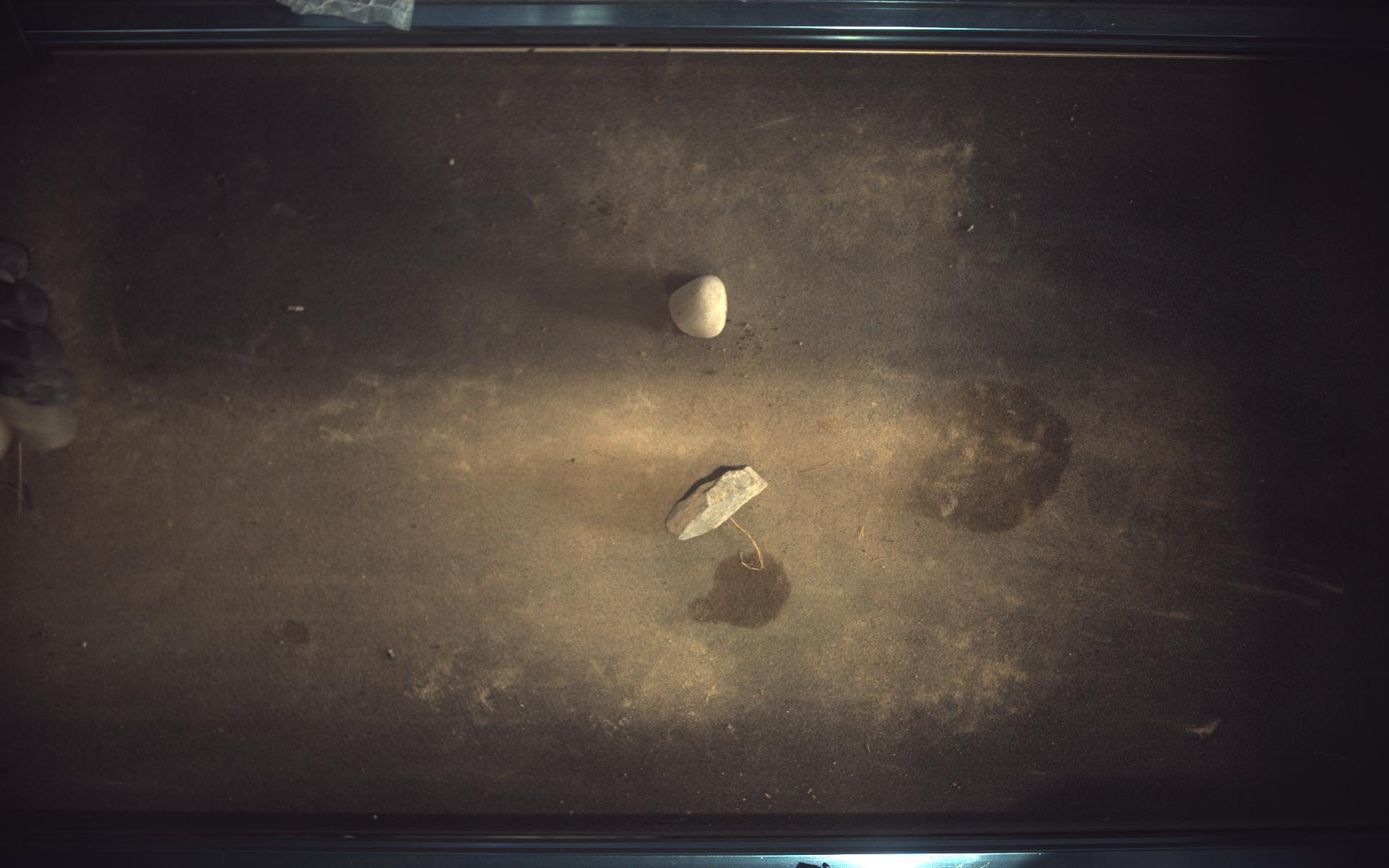stone: (668, 467, 769, 541), (669, 275, 729, 338)
